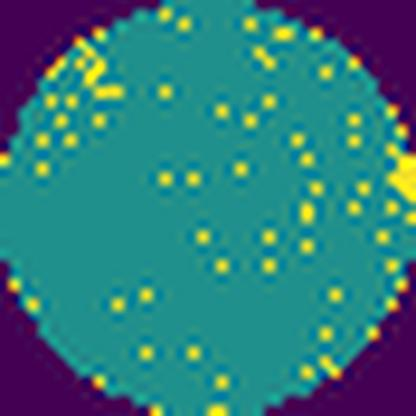Edge-Loc: (386, 145, 416, 208)
